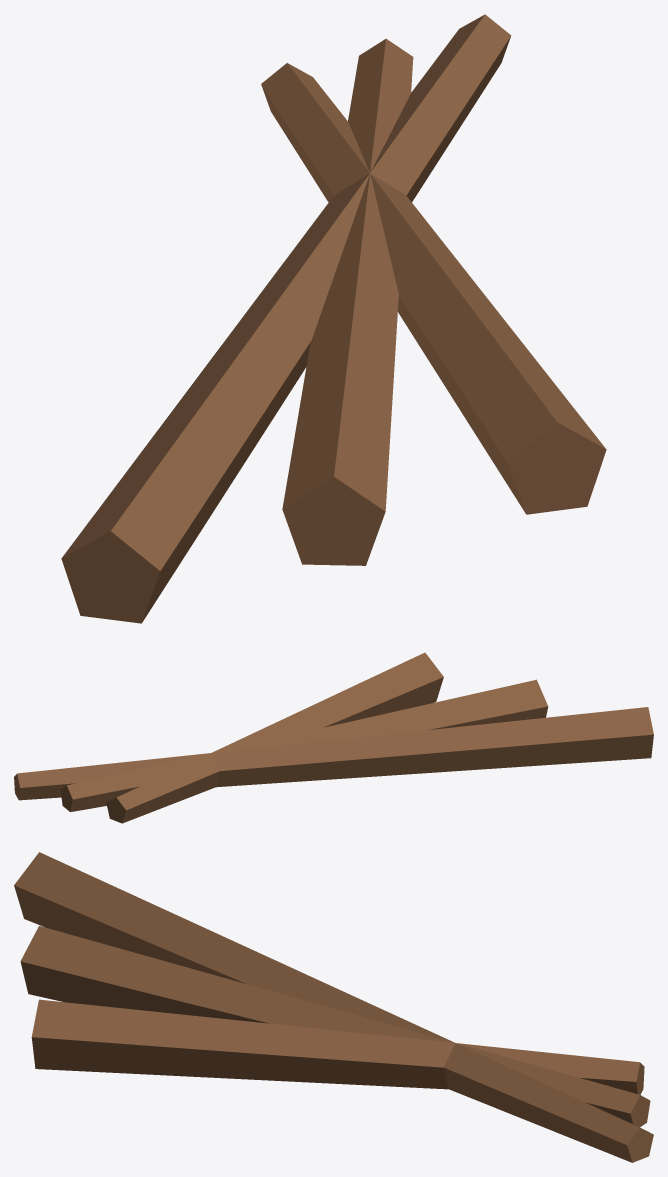
Rendered from enfeite_raiz_chao.glb.
The picture shows the model from 3 angles, top to bottom: view 1: azimuth 30°, elevation 25°; view 2: azimuth 150°, elevation 25°; view 3: azimuth 270°, elevation 25°; orthographic projection. The views are drawn at different scales.
Visible parts, largest first — view 1: bosque_enfeite_raiz_chao; view 2: bosque_enfeite_raiz_chao; view 3: bosque_enfeite_raiz_chao.
Part boxes in pixels (<box>): bosque_enfeite_raiz_chao: <box>61,14,606,623</box>; bosque_enfeite_raiz_chao: <box>14,652,653,823</box>; bosque_enfeite_raiz_chao: <box>14,852,653,1162</box>.
Bounding box in the file's own units: 0.3489 × 0.0344 × 0.3301.
